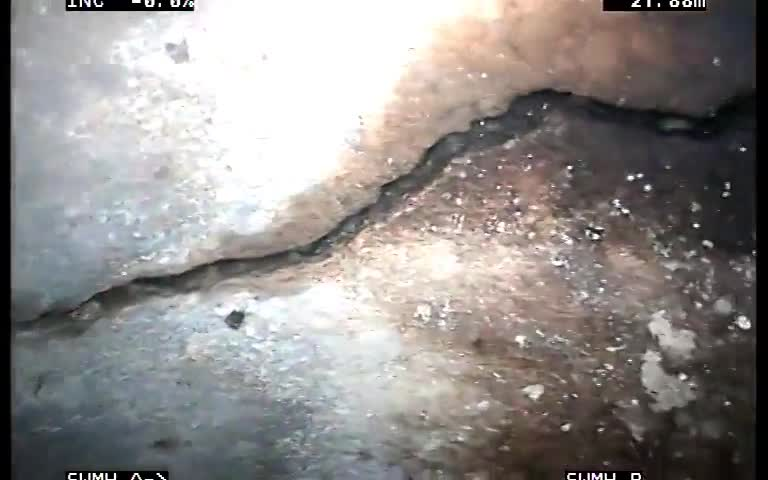Crack: (20, 31, 748, 344), (307, 73, 750, 260), (14, 172, 402, 338)
